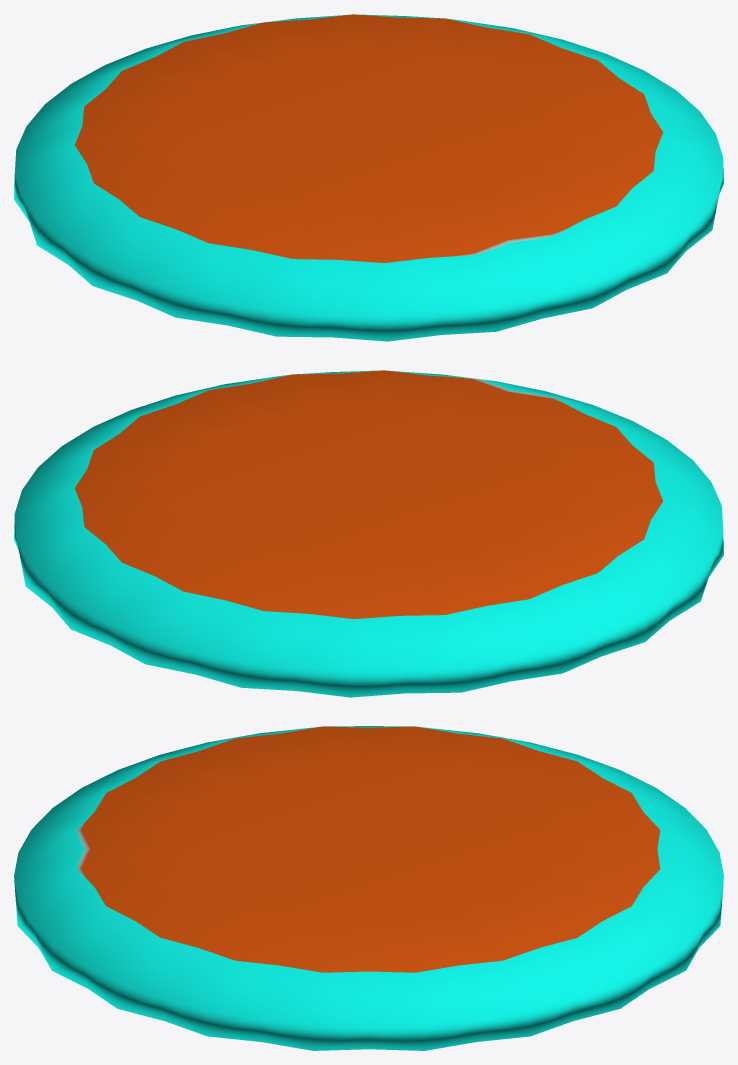
The model's file is pickup_orange.fbx.
3 views of the same model, one above another, from view 1: azimuth 30°, elevation 25°; view 2: azimuth 150°, elevation 25°; view 3: azimuth 270°, elevation 25° (orthographic).
Visible parts, largest first — view 1: pCylinder1; view 2: pCylinder1; view 3: pCylinder1.
Part boxes in pixels (box(x1,y1,x2,y2)): pCylinder1: box(14, 14, 723, 341); pCylinder1: box(14, 370, 723, 697); pCylinder1: box(14, 726, 723, 1050).
Bounding box in the file's own units: 1.75 × 0.1917 × 1.75.
1 material, 1 textured.
